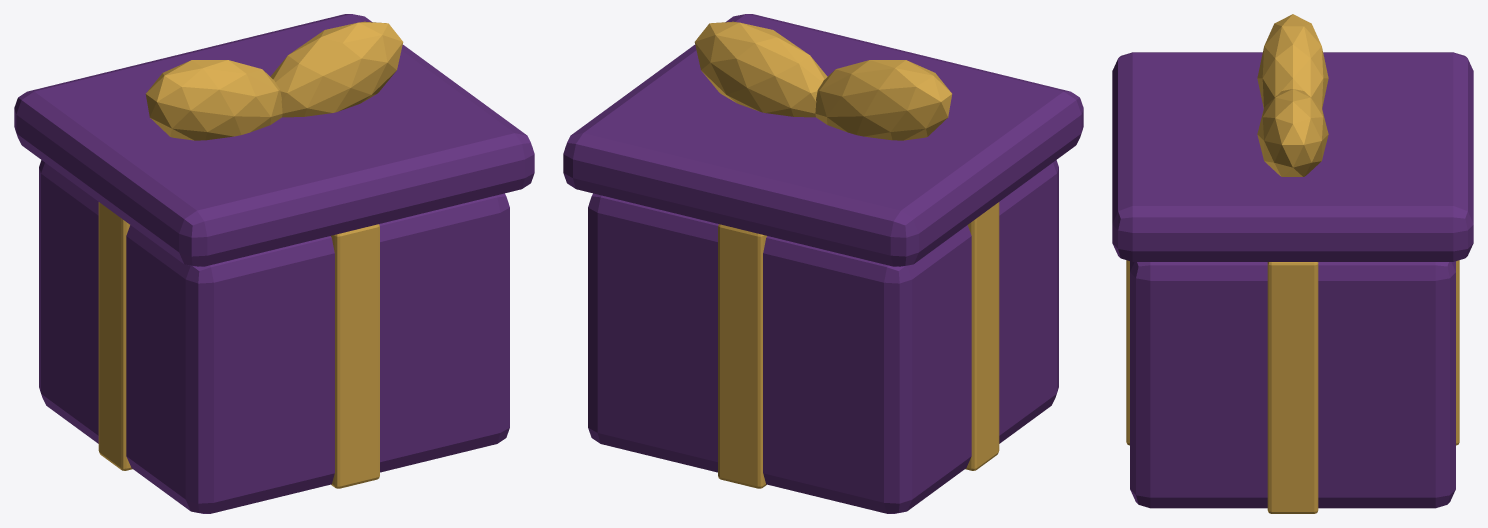
Rendered from gift-closed.glb.
3 views of the same model, side by side, from view 1: azimuth 30°, elevation 25°; view 2: azimuth 150°, elevation 25°; view 3: azimuth 270°, elevation 25° (orthographic).
Visible parts, largest first — view 1: gift_body, gift_lid, gift_ribbon_front, gift_bow, gift_bow.001, gift_ribbon_side; view 2: gift_body, gift_lid, gift_ribbon_front, gift_bow, gift_bow.001, gift_ribbon_side; view 3: gift_body, gift_lid, gift_ribbon_side, gift_bow.001, gift_bow, gift_ribbon_front.
Part boxes in pixels (x1,y1,x2,y2): gift_body: [39, 160, 509, 513]; gift_lid: [14, 14, 534, 266]; gift_ribbon_front: [331, 224, 379, 488]; gift_bow: [145, 60, 282, 140]; gift_bow.001: [270, 21, 403, 117]; gift_ribbon_side: [98, 202, 132, 470]; gift_body: [588, 160, 1058, 513]; gift_lid: [563, 14, 1083, 266]; gift_ribbon_front: [718, 224, 766, 488]; gift_bow: [815, 60, 952, 140]; gift_bow.001: [694, 21, 827, 117]; gift_ribbon_side: [965, 202, 999, 470]; gift_body: [1130, 261, 1455, 508]; gift_lid: [1112, 52, 1473, 261]; gift_ribbon_side: [1267, 262, 1318, 513]; gift_bow.001: [1257, 89, 1328, 176]; gift_bow: [1257, 14, 1328, 108]; gift_ribbon_front: [1126, 260, 1459, 445].
Bounding box in the file's own units: 0.79 × 0.818 × 0.71.
